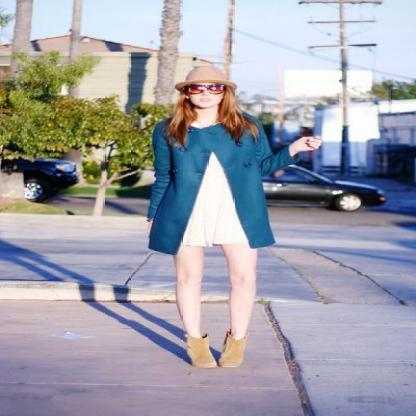dress: (181, 152, 244, 246)
hat: (176, 66, 234, 86)
jacket: (140, 125, 298, 255)
shoe: (187, 330, 248, 367)
sunglass: (205, 82, 236, 92)
